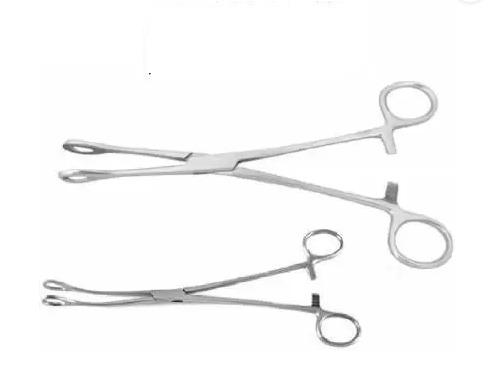Sponge Holding Forceps: (49, 76, 457, 275)
